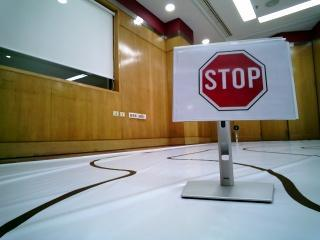stop: (182, 42, 281, 125)
